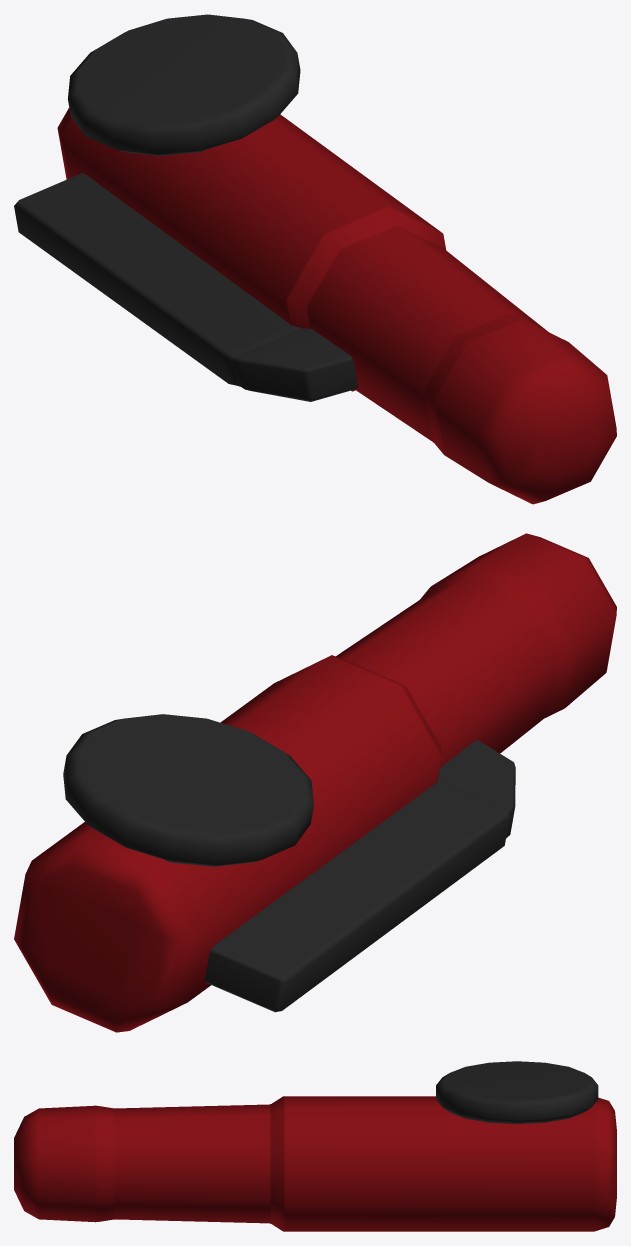
File: Ship_enemy_01_Weapon_R.fbx
3 renders of one model, top to bottom at view 1: azimuth 30°, elevation 25°; view 2: azimuth 150°, elevation 25°; view 3: azimuth 270°, elevation 25°, orthographic. The views are drawn at different scales.
Parts seen in each view (by area): view 1: Ship_enemy_01_Weapon_R; view 2: Ship_enemy_01_Weapon_R; view 3: Ship_enemy_01_Weapon_R.
Part boxes in pixels (left/top/right/bottom): Ship_enemy_01_Weapon_R: left=14, top=14, right=616, bottom=504; Ship_enemy_01_Weapon_R: left=14, top=533, right=616, bottom=1032; Ship_enemy_01_Weapon_R: left=14, top=1061, right=616, bottom=1231.
Size of the model in its own units: 69.88 by 61.9 by 227.
